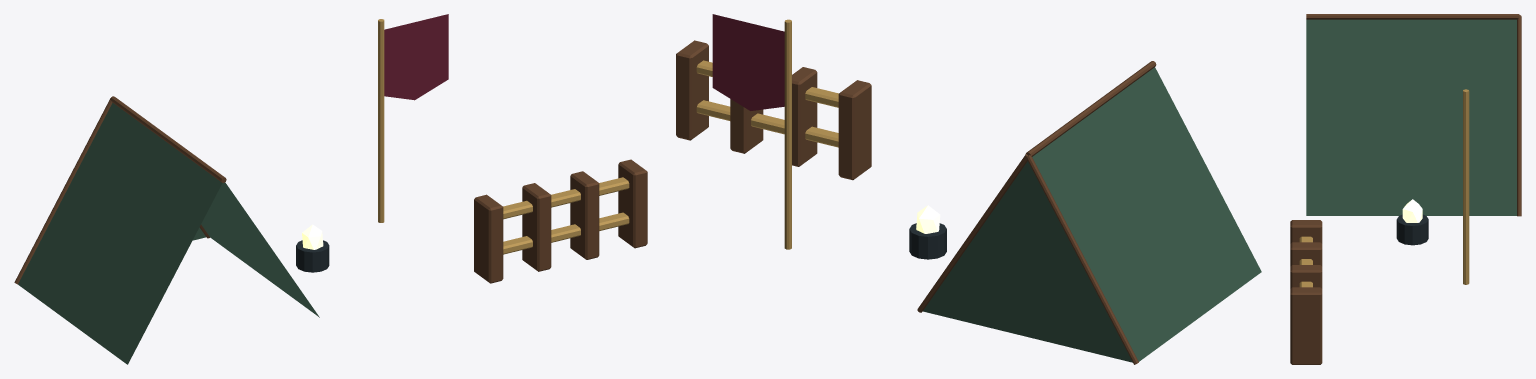
Rendered from field-camp.glb.
The picture shows the model from 3 angles, left to right: view 1: azimuth 30°, elevation 25°; view 2: azimuth 150°, elevation 25°; view 3: azimuth 270°, elevation 25°; orthographic projection. The views are drawn at different scales.
Parts seen in each view (by area): view 1: Canvas tent, Barricade post, Camp banner, Barricade crossbar, Lantern stand; view 2: Canvas tent, Barricade post, Camp banner, Barricade crossbar, Lantern stand, Lantern warm glass; view 3: Canvas tent, Barricade post, Barricade crossbar, Lantern stand, Lantern warm glass.
Part boxes in pixels (x1=…): Canvas tent: x1=18, y1=103, x2=319, y2=364; Barricade post: x1=14, y1=96, x2=647, y2=284; Camp banner: x1=384, y1=14, x2=448, y2=100; Barricade crossbar: x1=378, y1=19, x2=629, y2=254; Lantern stand: x1=296, y1=240, x2=329, y2=272; Canvas tent: x1=923, y1=67, x2=1261, y2=362; Barricade post: x1=676, y1=40, x2=1156, y2=364; Camp banner: x1=712, y1=14, x2=784, y2=110; Barricade crossbar: x1=696, y1=19, x2=838, y2=249; Lantern stand: x1=909, y1=223, x2=946, y2=259; Lantern warm glass: x1=916, y1=205, x2=940, y2=233; Canvas tent: x1=1306, y1=19, x2=1516, y2=215; Barricade post: x1=1290, y1=14, x2=1521, y2=364; Barricade crossbar: x1=1299, y1=89, x2=1469, y2=287; Lantern stand: x1=1396, y1=214, x2=1428, y2=245; Lantern warm glass: x1=1402, y1=199, x2=1422, y2=222.
Size of the model in its own units: 10.69 by 4.02 by 4.35.
